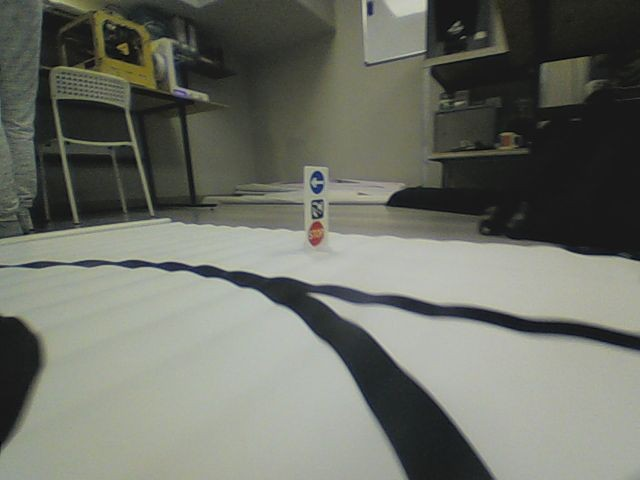Stop: (307, 220, 325, 247)
